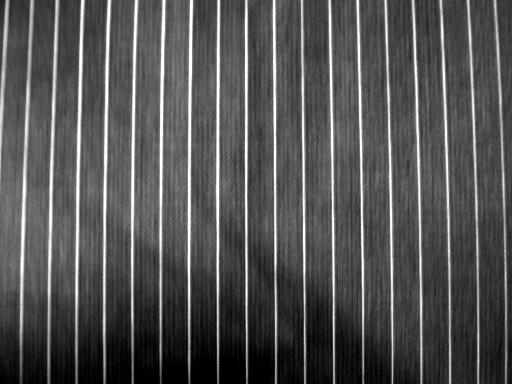fabric_perfect: (0, 4, 508, 384)
